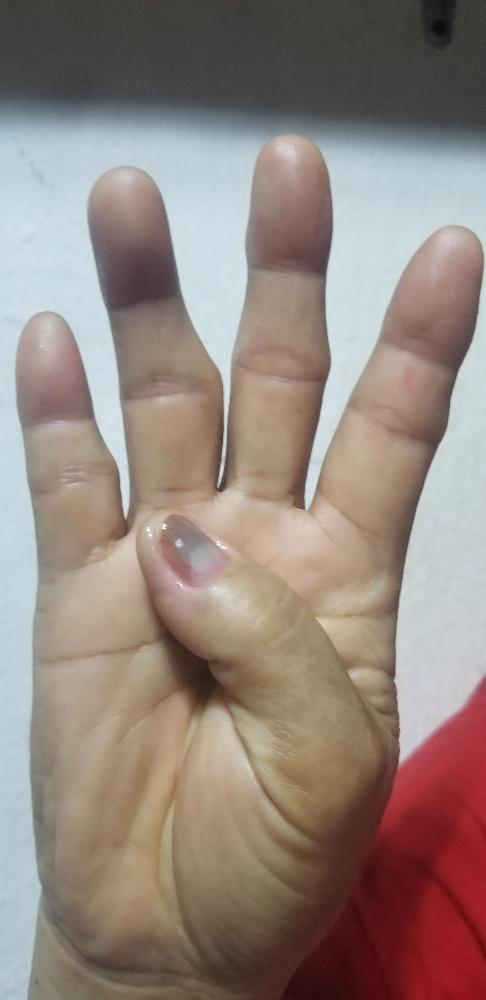b: (15, 129, 485, 974)
